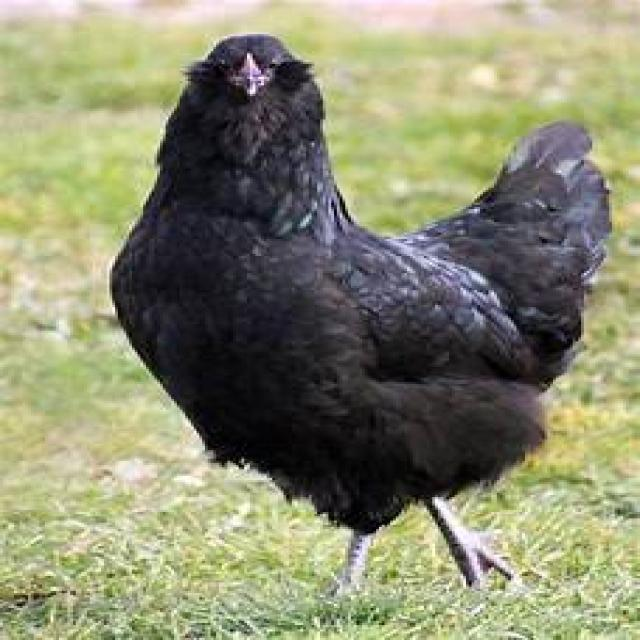hen: (109, 34, 615, 597)
